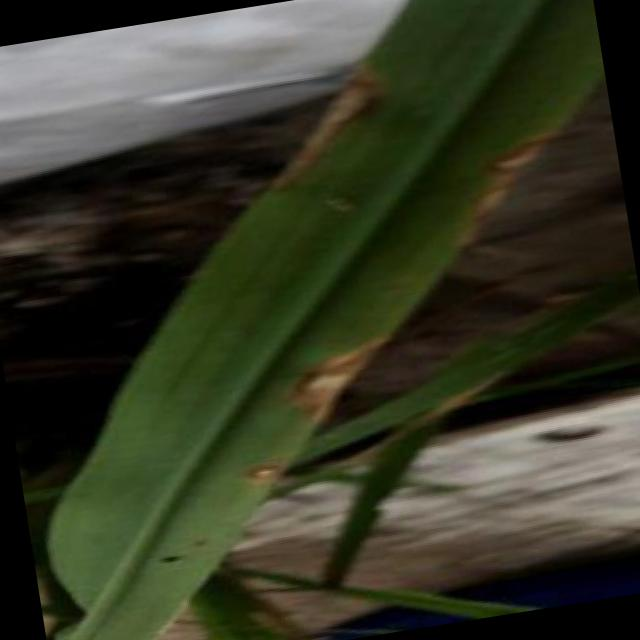Rice_Blast: (258, 46, 414, 210), (253, 320, 417, 445), (430, 106, 580, 239), (217, 433, 324, 522)
